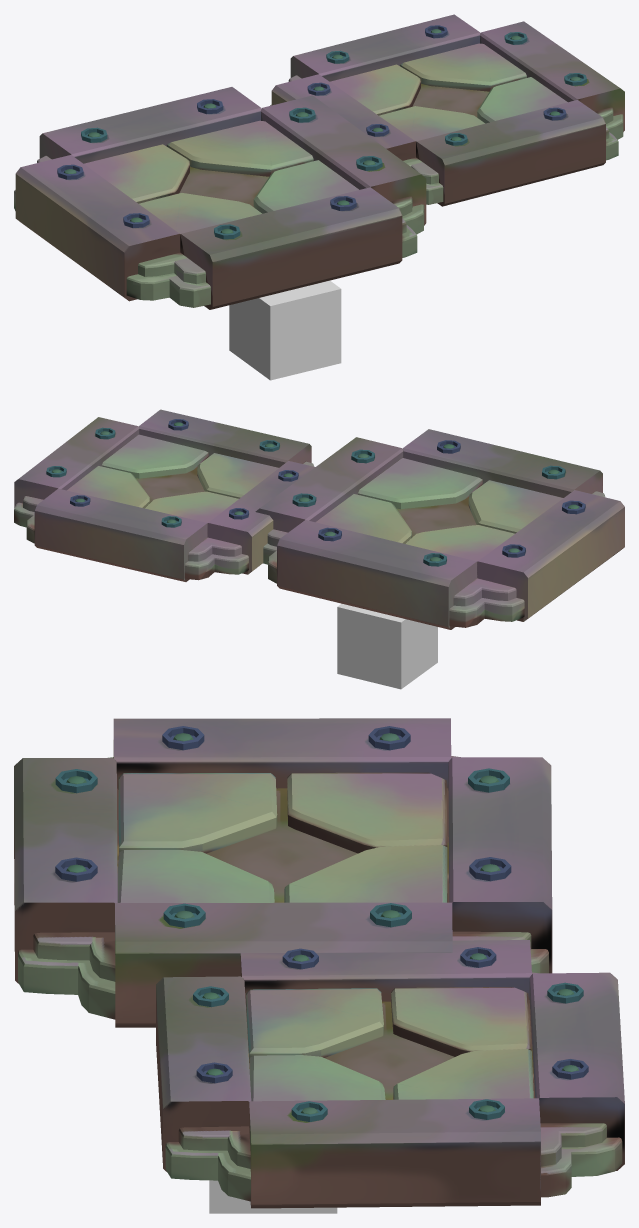
Rendered from trade-floor006.fbx.
3 views of the same model, one above another, from view 1: azimuth 30°, elevation 25°; view 2: azimuth 150°, elevation 25°; view 3: azimuth 270°, elevation 25° (orthographic). The views are drawn at different scales.
Parts seen in each view (by area): view 1: Circle.002, Circle.003, trade-floor006; view 2: Circle.002, Circle.003, trade-floor006; view 3: Circle.002, Circle.003, trade-floor006.
Part boxes in pixels (x1,y1,x2,y2): Circle.002: [14, 87, 426, 309]; Circle.003: [270, 14, 624, 206]; trade-floor006: [229, 280, 341, 380]; Circle.002: [255, 429, 624, 629]; Circle.003: [14, 409, 315, 581]; trade-floor006: [337, 603, 437, 689]; Circle.002: [14, 718, 552, 1027]; Circle.003: [156, 940, 624, 1208]; trade-floor006: [209, 1180, 337, 1213].
Bounding box in the file's own units: 599 × 213 × 372.
